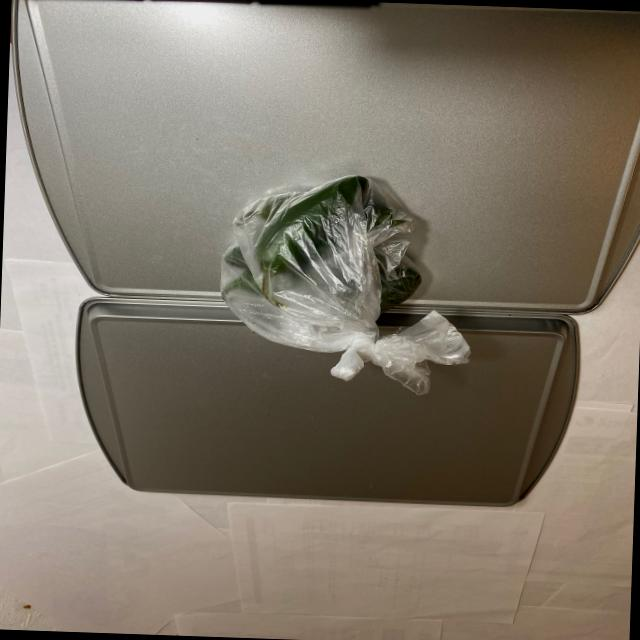chilli: (214, 166, 445, 342)
